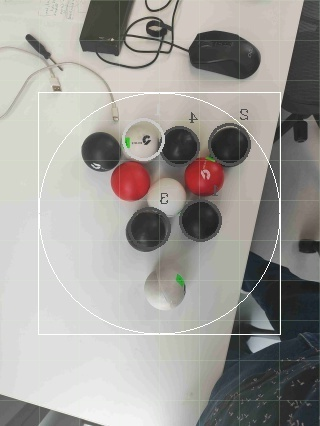Pelota blanca: (79, 0, 175, 70), (0, 44, 47, 118), (0, 395, 95, 425), (143, 257, 188, 310), (122, 118, 164, 160), (146, 177, 188, 216)
Pelota negra: (189, 28, 262, 81), (125, 206, 172, 254), (178, 198, 225, 243), (207, 121, 252, 168), (79, 129, 121, 174), (162, 124, 201, 166)
Pelota roja: (109, 158, 153, 203), (183, 156, 225, 198)
